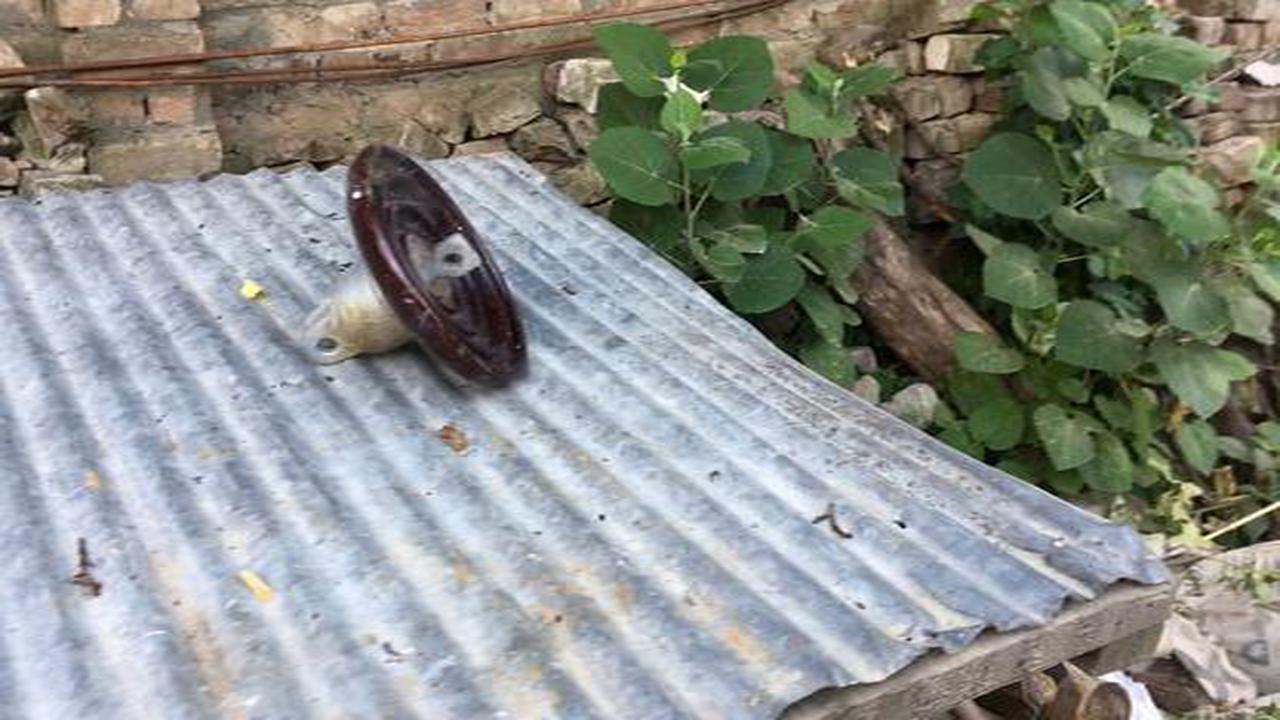insulator_disc: (294, 139, 535, 397)
